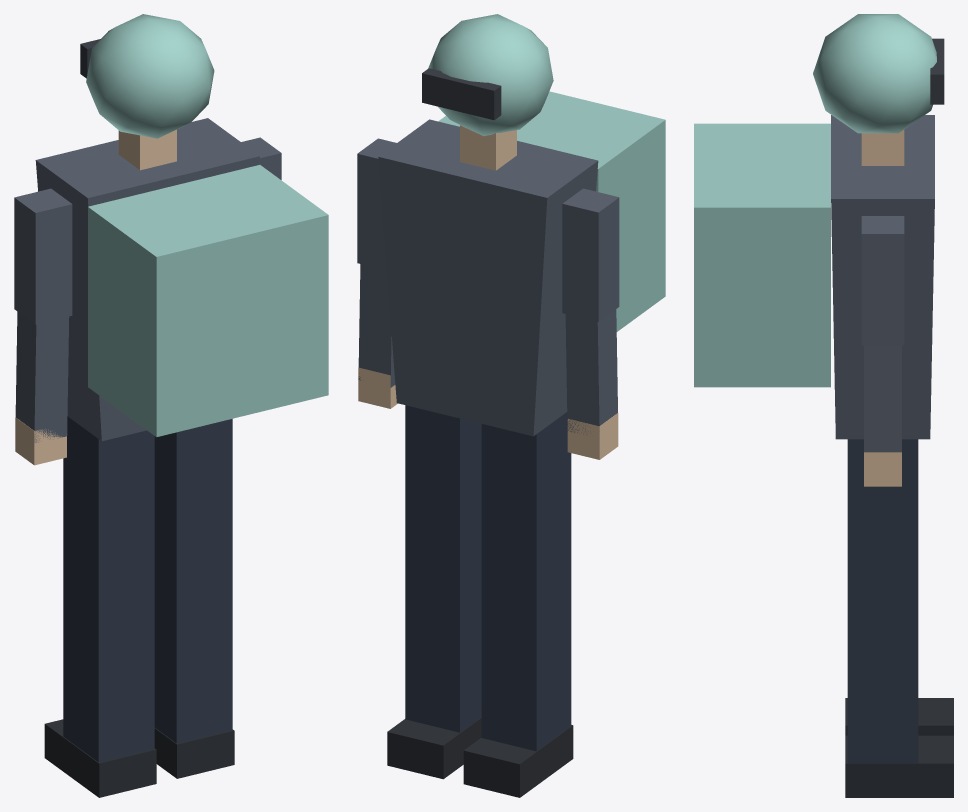
The model's file is rider.glb.
3 renders of one model, left to right at view 1: azimuth 30°, elevation 25°; view 2: azimuth 150°, elevation 25°; view 3: azimuth 270°, elevation 25°, orthographic.
Parts seen in each view (by area): view 1: Body, LegL, LegR; view 2: Body, LegL, LegR; view 3: Body, LegR, LegL.
Boxes of the visible parts, left/top/right/bottom form: Body: left=14, top=14, right=328, bottom=465; LegL: left=44, top=416, right=156, bottom=797; LegR: left=154, top=419, right=234, bottom=778; Body: left=357, top=14, right=665, bottom=459; LegL: left=463, top=412, right=573, bottom=797; LegR: left=387, top=405, right=481, bottom=779; Body: left=694, top=14, right=944, bottom=486; LegR: left=845, top=439, right=953, bottom=797; LegL: left=845, top=698, right=953, bottom=735.
Bounding box in the file's own units: 0.6 × 1.75 × 0.55.
